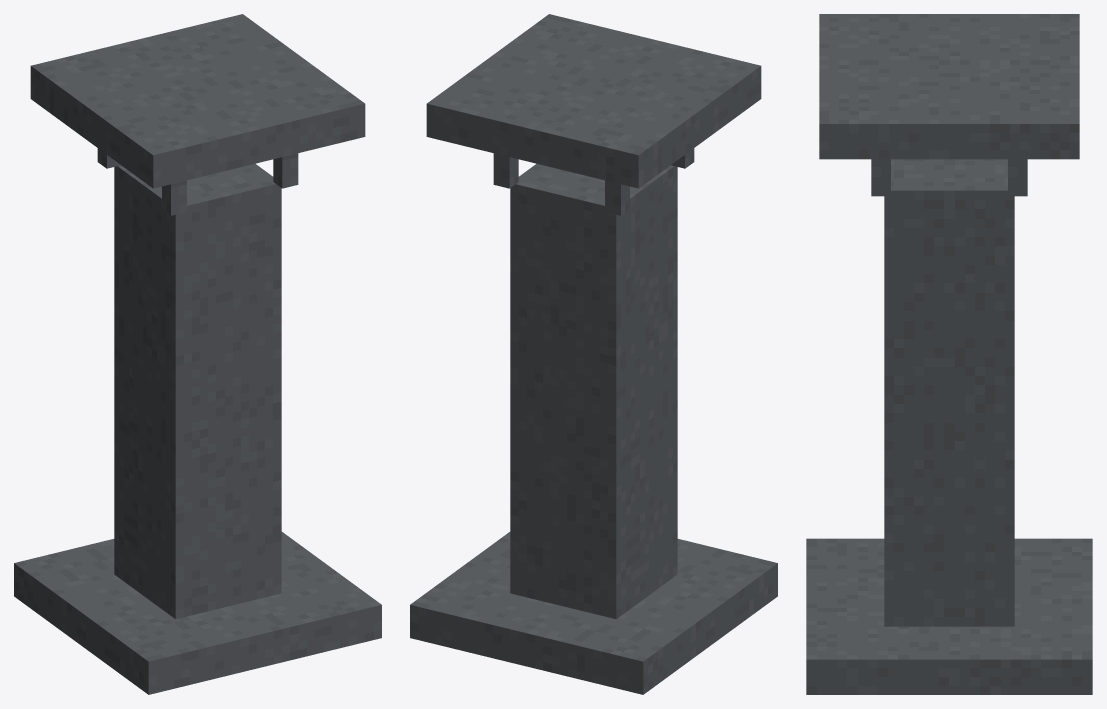
File: f_vent_pipe.glb
3 renders of one model, left to right at view 1: azimuth 30°, elevation 25°; view 2: azimuth 150°, elevation 25°; view 3: azimuth 270°, elevation 25°, orthographic. The views are drawn at different scales.
Visible parts, largest first — view 1: block_pipe, block_cap, block_flashing, block_strut0.090.09, block_strut-0.120.09; view 2: block_pipe, block_cap, block_flashing, block_strut0.09-0.12, block_strut-0.12-0.12; view 3: block_pipe, block_cap, block_flashing, block_strut0.09-0.12, block_strut0.090.09.
Part boxes in pixels (x1,y1,x2,y2): block_pipe: (114,163,281,619); block_cap: (30,14,365,188); block_flashing: (14,532,381,694); block_strut0.090.09: (273,153,298,188); block_strut-0.120.09: (162,180,186,215); block_pipe: (510,163,677,619); block_cap: (426,14,761,188); block_flashing: (410,532,777,694); block_strut0.09-0.12: (493,153,518,188); block_strut-0.12-0.12: (605,180,629,215); block_pipe: (884,159,1014,626); block_cap: (819,14,1079,159); block_flashing: (806,538,1092,694); block_strut0.09-0.12: (1008,159,1027,196); block_strut0.090.09: (871,159,890,196).
Bounding box in the file's own units: 0.44 × 0.96 × 0.44.
Materials: 2 (2 with a texture image).
